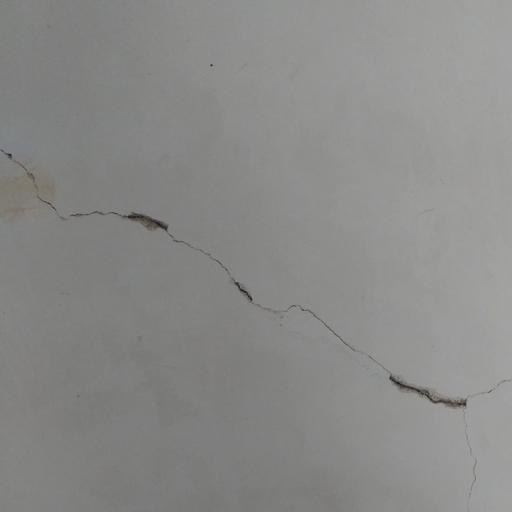major_crack: (0, 138, 512, 510)
